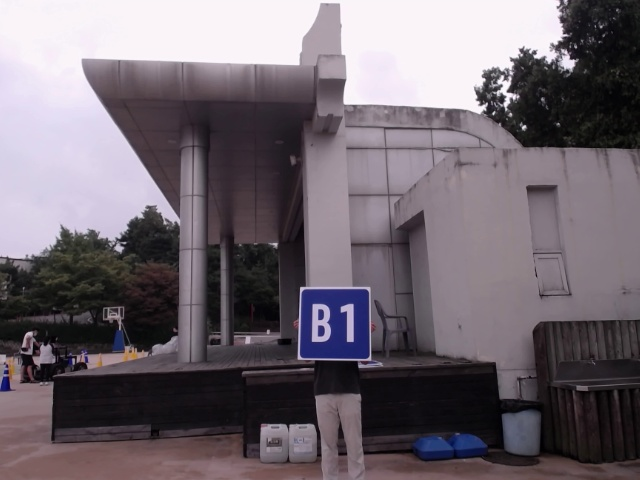delivery_b1: (299, 287, 371, 361)
